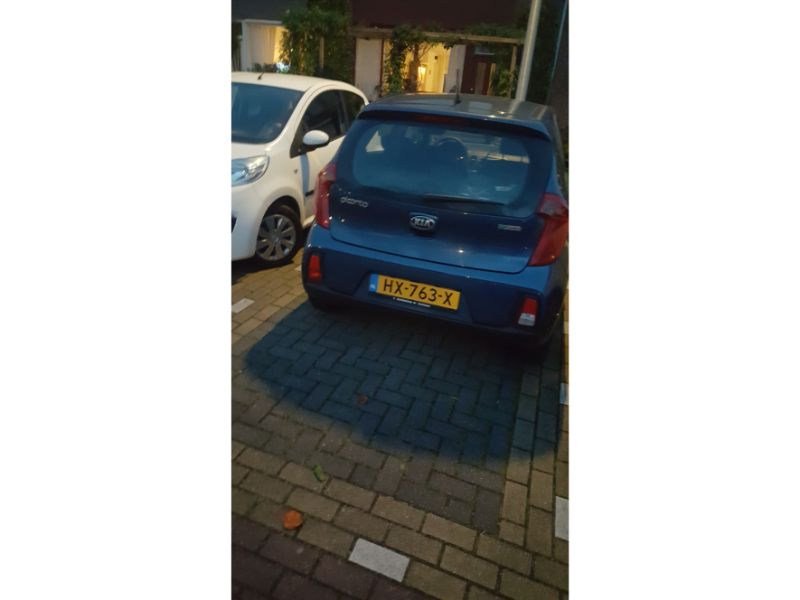kenteken: (363, 273, 464, 312)
